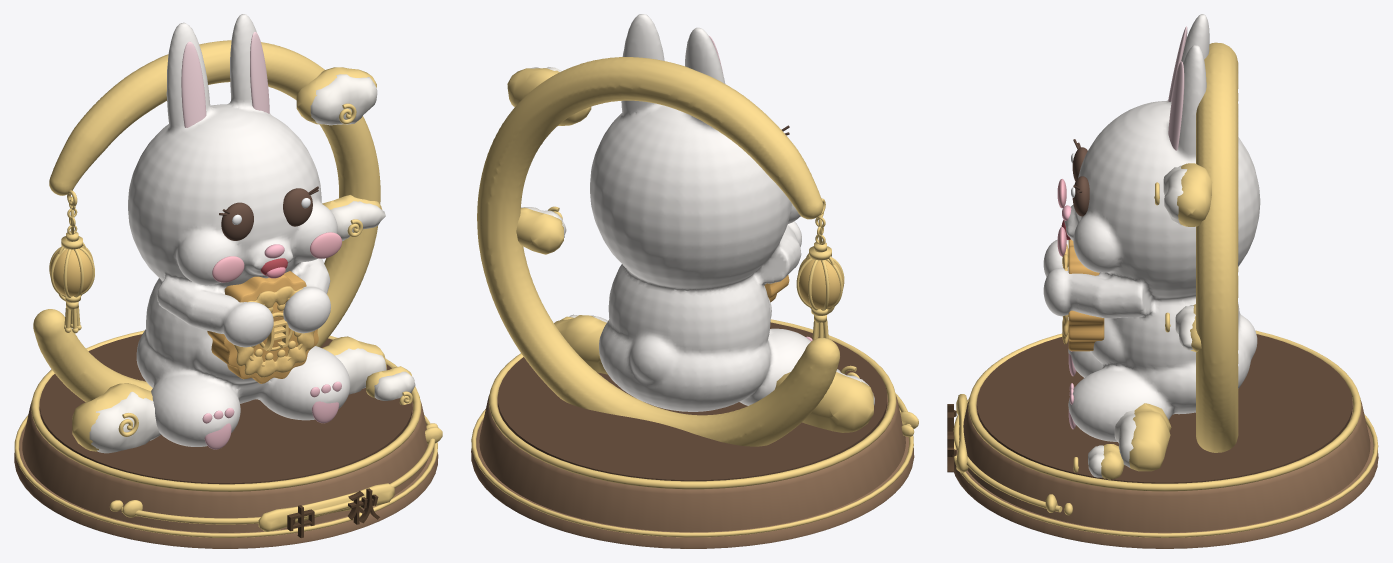
The model's file is yutu_v4.glb.
3 renders of one model, left to right at view 1: azimuth 30°, elevation 25°; view 2: azimuth 150°, elevation 25°; view 3: azimuth 270°, elevation 25°, orthographic. The views are drawn at different scales.
Parts seen in each view (by area): view 1: 玉兔主体, 月环, 深色桌面, 底座, 底线脚, 底座金箍, 月饼, 左坐地云_白身, 底金线, 右上贴环云_白身, 心形花瓣环, 左坐地云_金边 (+16 smaller); view 2: 玉兔主体, 月环, 深色桌面, 底座, 底线脚, 底座金箍, 底金线, 左坐地云_金边, 右中拖尾云_金边, 右坐地云_金边, 灯肚, 右上贴环云_金边; view 3: 玉兔主体, 深色桌面, 底座, 月环, 底线脚, 底座金箍, 底金线, 右坐地云_金边, 右上贴环云_金边, 月饼, 右耳内耳, 前金绶带 (+6 smaller).
Boxes of the visible parts, box(x1,y1,x2,y2) form: 玉兔主体: box(128, 14, 350, 446); 月环: box(33, 40, 380, 402); 深色桌面: box(39, 334, 412, 484); 底座: box(22, 401, 428, 532); 底线脚: box(14, 425, 438, 548); 底座金箍: box(31, 330, 421, 491); 月饼: box(207, 271, 318, 383); 左坐地云_白身: box(89, 391, 160, 453); 底金线: box(14, 415, 437, 537); 右上贴环云_白身: box(310, 74, 377, 125); 心形花瓣环: box(234, 286, 314, 377); 左坐地云_金边: box(72, 383, 152, 451); 玉兔主体: box(590, 14, 810, 411); 月环: box(477, 57, 839, 446); 深色桌面: box(498, 322, 887, 481); 底座: box(479, 394, 905, 532); 底线脚: box(471, 419, 914, 548); 底座金箍: box(489, 319, 896, 489); 底金线: box(471, 409, 913, 537); 左坐地云_金边: box(775, 372, 873, 432); 右中拖尾云_金边: box(516, 207, 563, 254); 右坐地云_金边: box(554, 315, 607, 374); 灯肚: box(798, 258, 843, 309); 右上贴环云_金边: box(507, 68, 591, 125); 玉兔主体: box(1043, 14, 1260, 441); 深色桌面: box(977, 334, 1352, 483); 底座: box(963, 399, 1370, 532); 月环: box(1196, 42, 1238, 452); 底线脚: box(954, 424, 1378, 548); 底座金箍: box(968, 330, 1361, 491); 底金线: box(954, 414, 1378, 537); 右坐地云_金边: box(1129, 403, 1171, 471); 右上贴环云_金边: box(1177, 163, 1212, 226); 月饼: box(1068, 239, 1104, 351); 右耳内耳: box(1168, 61, 1184, 150); 前金绶带: box(953, 399, 1062, 512).
Bounding box in the file's own units: 73.69 × 82.23 × 74.31.
